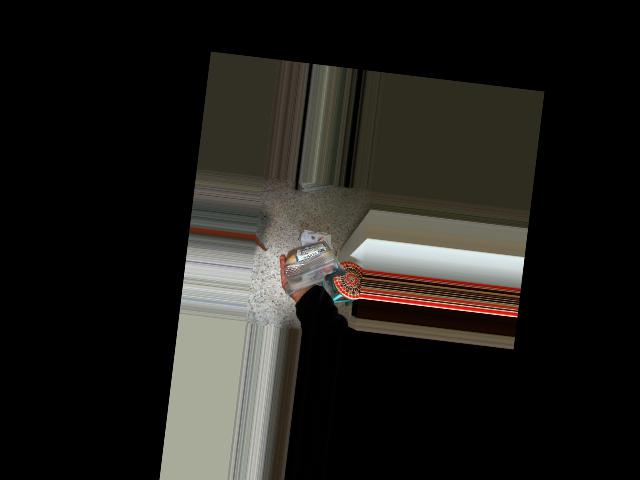cheese: (294, 223, 329, 289)
